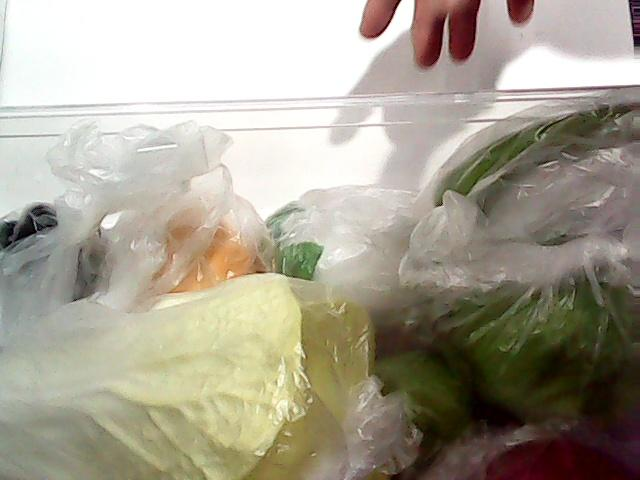apple: (368, 348, 482, 449), (462, 436, 638, 480)
cabbage: (416, 240, 640, 432)
grape: (1, 173, 98, 287)
lemon: (132, 198, 276, 302)
napa cabbage: (3, 283, 369, 480)
pepper: (419, 74, 640, 233)
radish: (268, 185, 430, 331)
